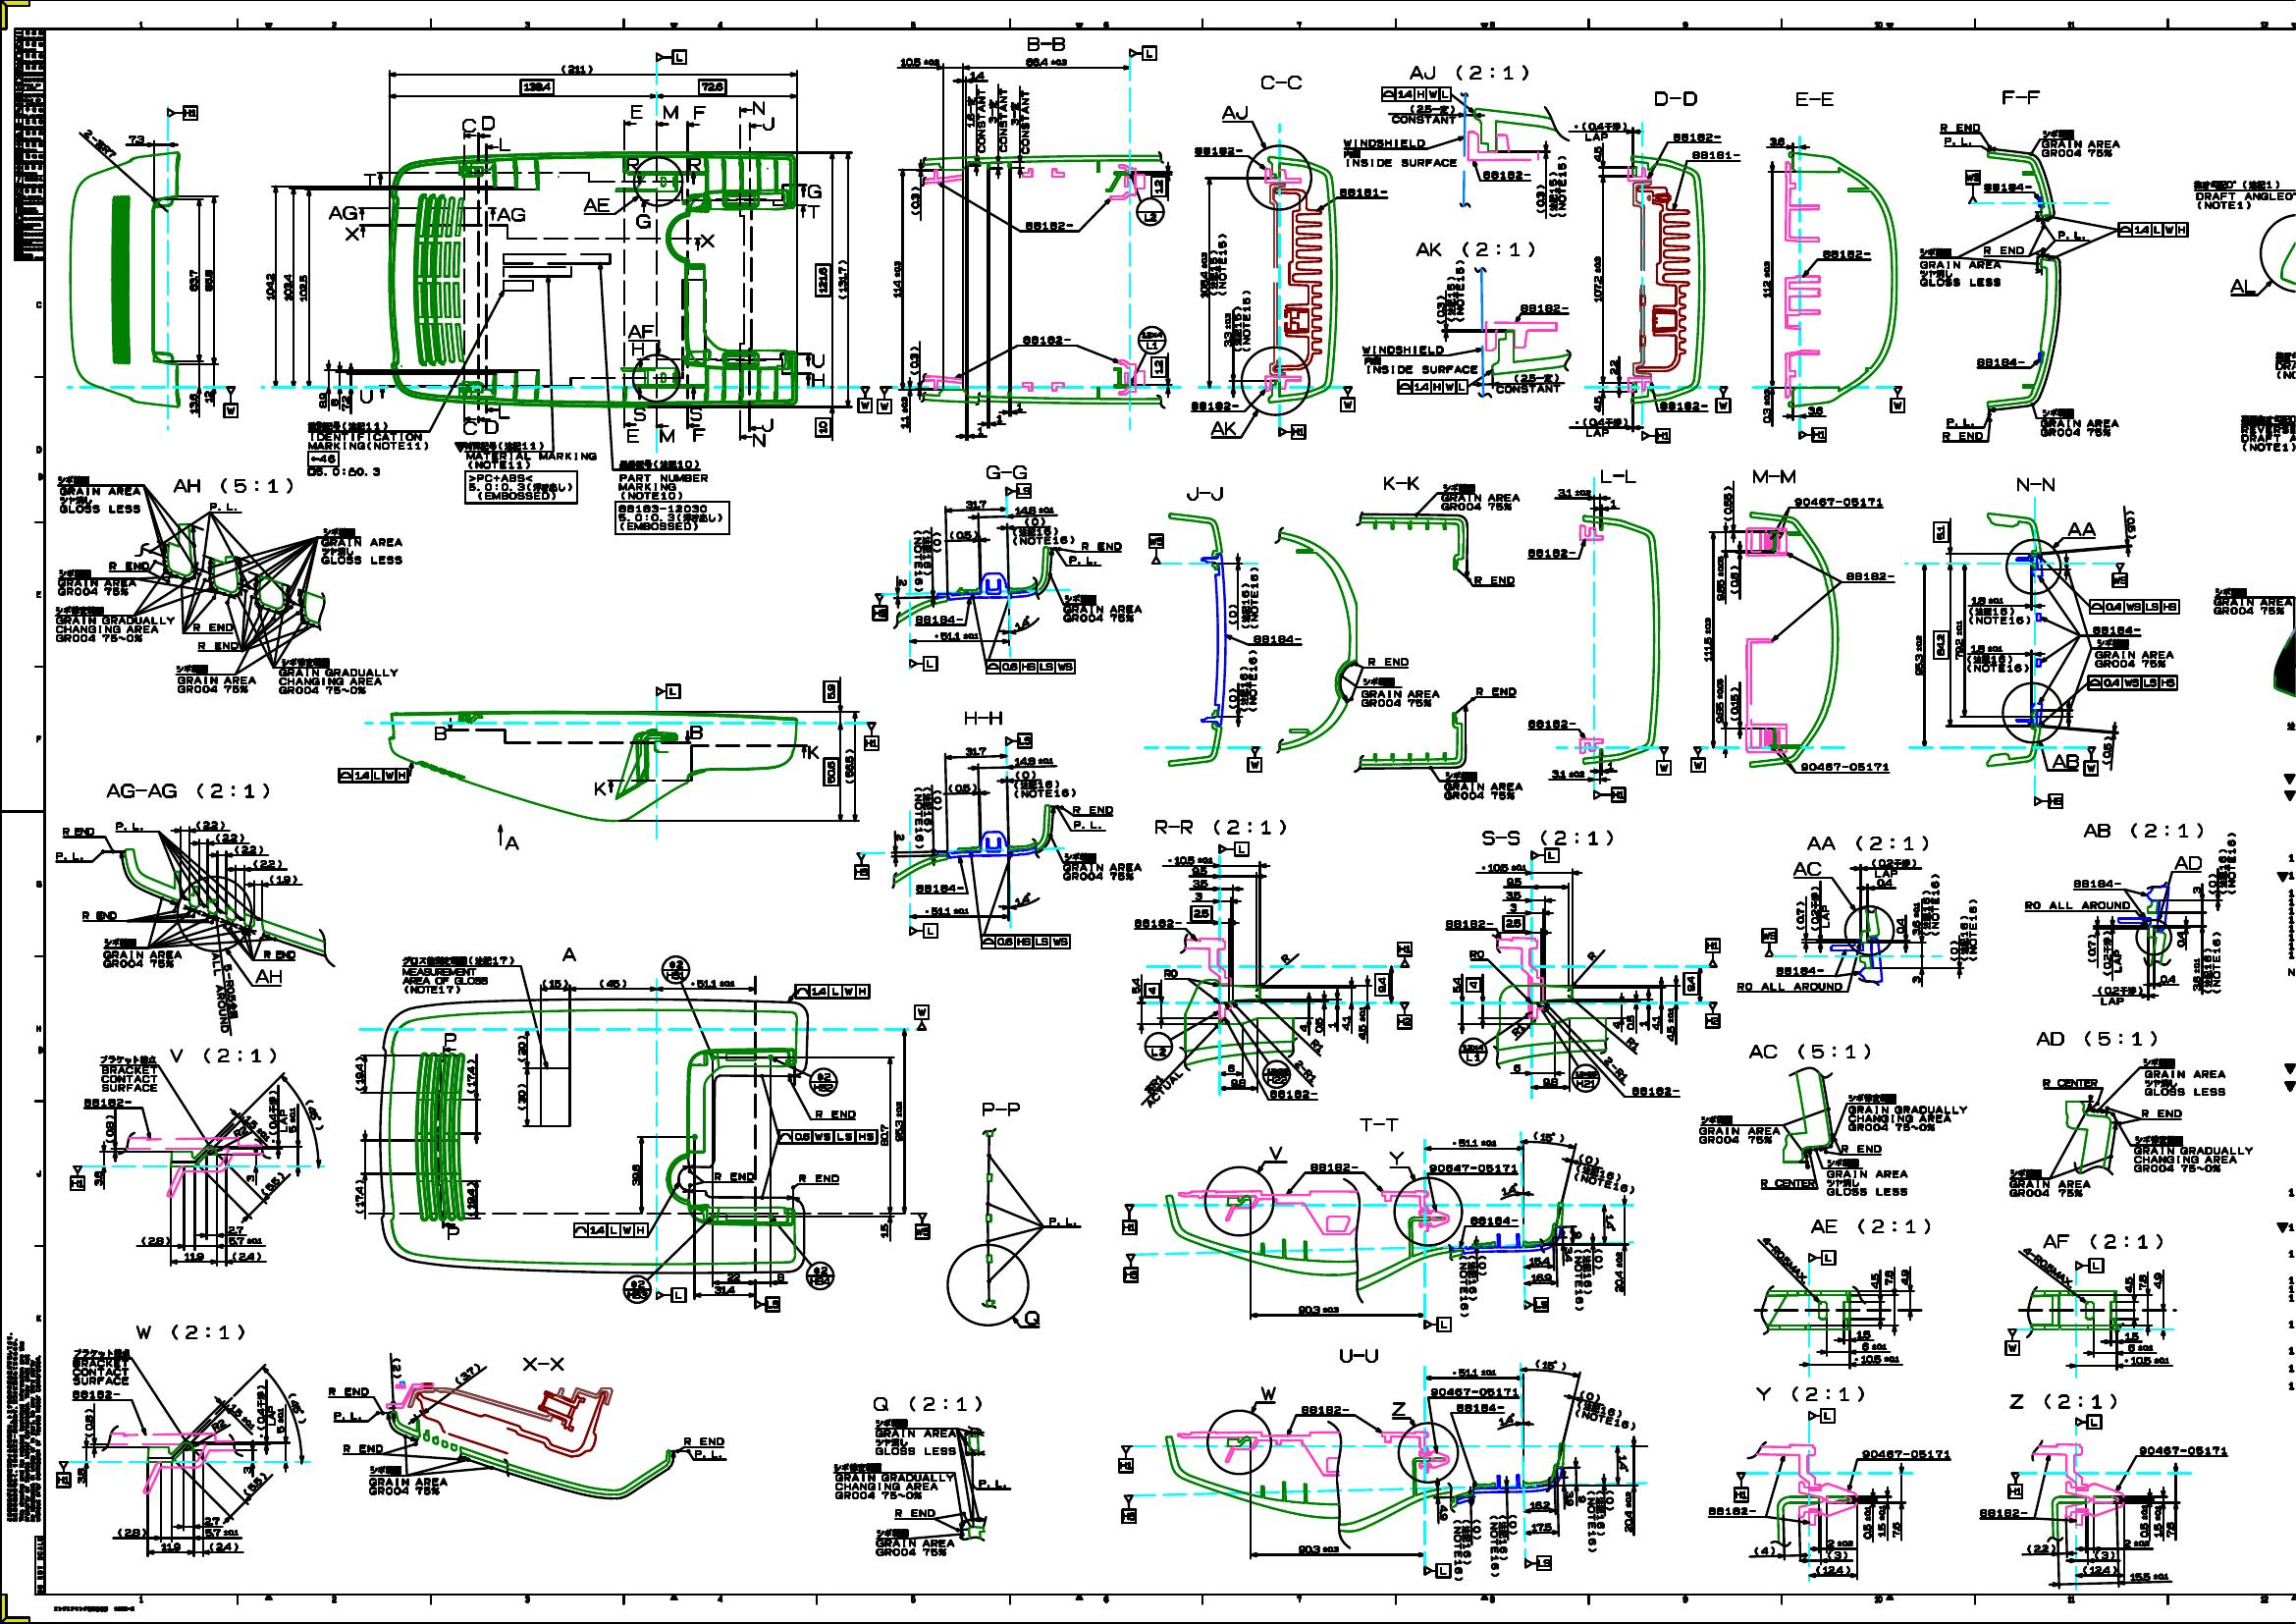anntotation_text: (453, 439, 599, 506), (615, 457, 731, 534), (307, 420, 430, 478), (4, 1332, 40, 1522), (1845, 1090, 1973, 1132), (2131, 1134, 2256, 1172), (831, 1461, 954, 1499), (278, 657, 399, 696), (54, 605, 174, 643), (402, 954, 515, 995), (56, 473, 144, 515), (2192, 176, 2296, 211), (1825, 1156, 1910, 1199), (320, 526, 408, 566), (104, 780, 271, 801), (1918, 246, 2001, 288), (1342, 137, 1458, 167), (873, 1417, 957, 1457), (2141, 1055, 2226, 1095), (1154, 816, 1291, 840), (1360, 344, 1479, 373), (2235, 411, 2296, 459), (369, 1462, 450, 1497), (1481, 826, 1613, 847), (2215, 585, 2296, 619), (1061, 849, 1142, 882), (2006, 1167, 2090, 1199), (1753, 1381, 1867, 1404), (2083, 819, 2206, 840), (104, 937, 181, 970), (1444, 770, 1525, 801), (1360, 677, 1439, 708), (1802, 833, 1931, 852), (1697, 1116, 1780, 1146), (174, 664, 256, 694), (2032, 1028, 2159, 1048), (1748, 1042, 1874, 1062), (56, 566, 137, 596), (2041, 128, 2122, 158), (1061, 592, 1142, 622), (1440, 482, 1521, 511), (2094, 638, 2175, 668), (2041, 1232, 2166, 1251), (98, 1055, 160, 1093), (2040, 408, 2119, 438), (1409, 62, 1530, 81), (873, 1394, 982, 1415), (875, 1529, 956, 1557), (132, 1323, 246, 1343), (70, 1348, 130, 1385), (1809, 1218, 1931, 1236), (169, 1046, 278, 1065), (174, 478, 292, 496), (213, 951, 237, 1033), (2008, 1392, 2119, 1410), (1414, 241, 1534, 257), (778, 1128, 878, 1144), (1959, 895, 1982, 961), (1572, 1406, 1641, 1427), (2201, 932, 2224, 995), (984, 659, 1075, 675), (2089, 599, 2180, 615), (1209, 228, 1230, 297), (1548, 155, 1570, 216), (1451, 1517, 1472, 1582), (1488, 1513, 1509, 1578), (912, 784, 933, 849), (1920, 872, 1941, 937), (2022, 898, 2133, 910), (1238, 566, 1260, 629), (1967, 605, 2031, 626), (794, 982, 870, 1000), (1576, 415, 1628, 439), (1586, 1487, 1606, 1554), (1390, 104, 1456, 123), (1574, 1171, 1641, 1190), (980, 935, 1072, 949), (1456, 1253, 1476, 1318), (1497, 373, 1562, 392), (1446, 257, 1465, 322), (1572, 1248, 1592, 1313), (1966, 654, 2031, 673), (1233, 288, 1253, 353), (337, 766, 408, 784), (2089, 675, 2177, 689), (573, 1222, 648, 1237), (1859, 1448, 1955, 1461), (2217, 831, 2236, 893), (1238, 649, 1258, 710), (1736, 981, 1845, 991), (2136, 1443, 2229, 1455), (255, 1385, 276, 1438), (1458, 1033, 1488, 1070), (1794, 496, 1883, 508), (2119, 221, 2187, 237), (1381, 86, 1449, 102), (1430, 1162, 1518, 1174), (1014, 780, 1075, 798), (1137, 1077, 1188, 1098), (913, 531, 931, 591), (2103, 928, 2124, 977), (269, 1090, 288, 1142), (1012, 529, 1075, 545), (1398, 380, 1469, 394), (1574, 121, 1625, 141), (1799, 761, 1890, 772), (1869, 858, 1918, 877), (1432, 1385, 1521, 1396), (805, 1260, 836, 1290), (1137, 323, 1166, 355), (1750, 1251, 1816, 1265), (622, 1274, 652, 1304), (661, 954, 690, 984), (1135, 197, 1165, 227), (1809, 884, 1829, 930), (2097, 986, 2143, 1005), (1750, 466, 1799, 483), (522, 1355, 566, 1374), (810, 1067, 838, 1097), (1572, 1063, 1600, 1093), (2040, 1076, 2099, 1090), (1653, 88, 1700, 105), (1142, 1032, 1173, 1058), (1260, 1060, 1291, 1086), (1444, 916, 1497, 932), (2015, 1260, 2082, 1272), (2275, 348, 2296, 387), (959, 708, 1005, 726), (1794, 90, 1838, 107), (1757, 1176, 1818, 1188), (2001, 88, 2043, 105), (53, 1605, 135, 1613), (2013, 476, 2059, 492), (1599, 466, 1639, 483), (1021, 88, 1031, 155), (998, 86, 1008, 153), (977, 88, 987, 155), (1337, 1345, 1381, 1360), (1260, 74, 1303, 90), (1978, 1504, 2027, 1519), (1358, 1116, 1400, 1132), (986, 464, 1028, 480), (1690, 149, 1743, 162), (980, 1100, 1021, 1116), (1381, 475, 1421, 490), (1026, 35, 1066, 51), (2175, 852, 2205, 874), (1708, 1504, 1758, 1517), (1671, 130, 1722, 142), (1630, 1084, 1681, 1097), (1189, 399, 1240, 411), (1021, 334, 1072, 346), (1964, 169, 1982, 204), (2066, 520, 2097, 540), (2071, 877, 2120, 889), (1527, 717, 1576, 729), (341, 1441, 383, 1455), (798, 1171, 840, 1185), (1732, 1469, 1750, 1503), (1818, 248, 1873, 258), (1518, 302, 1572, 313), (711, 1171, 757, 1183), (327, 204, 358, 221), (913, 882, 966, 893), (1251, 633, 1303, 643), (1593, 786, 1625, 803), (1022, 221, 1075, 232), (581, 195, 613, 213), (1186, 487, 1224, 501), (107, 559, 151, 571), (1982, 243, 2025, 255), (327, 1385, 371, 1397), (1365, 656, 1409, 668), (1455, 1401, 1505, 1411), (1976, 357, 2027, 367), (83, 1097, 134, 1107), (1339, 186, 1390, 197), (1193, 146, 1244, 156), (655, 49, 689, 65), (1216, 840, 1249, 856), (1121, 1204, 1138, 1234), (497, 206, 527, 223), (167, 104, 197, 121), (1792, 859, 1822, 877), (908, 656, 938, 673), (1469, 1214, 1518, 1225), (1841, 1141, 1883, 1153), (1658, 401, 1708, 411), (813, 1107, 856, 1120), (72, 1388, 121, 1399), (81, 909, 118, 923), (1776, 965, 1825, 975), (1080, 540, 1123, 552), (1472, 575, 1514, 587), (1527, 548, 1576, 559), (35, 1536, 44, 1594), (1704, 1002, 1723, 1028), (1483, 169, 1530, 179), (223, 387, 239, 418), (655, 1287, 687, 1302), (1704, 939, 1720, 970), (915, 613, 963, 624), (1147, 533, 1163, 564), (863, 722, 880, 750), (1655, 747, 1672, 775), (1209, 420, 1237, 438), (1137, 917, 1182, 928), (1270, 1088, 1316, 1098), (1123, 1253, 1138, 1283), (2227, 279, 2257, 295), (1797, 427, 1827, 443), (1641, 429, 1671, 445), (908, 923, 938, 939), (2050, 752, 2080, 768), (1307, 1162, 1360, 1171), (195, 640, 239, 650), (191, 620, 235, 631), (1939, 429, 1983, 439), (892, 1508, 936, 1519), (1845, 571, 1897, 580), (1339, 387, 1356, 413), (1298, 1404, 1349, 1413), (2090, 626, 2141, 634), (1525, 1555, 1553, 1571), (2004, 1329, 2020, 1357), (1808, 1250, 1836, 1265), (1072, 803, 1114, 814), (1005, 733, 1033, 749), (207, 499, 239, 513), (1939, 121, 1982, 132), (627, 323, 655, 339), (77, 137, 119, 148), (682, 1436, 724, 1446), (253, 968, 281, 984), (854, 852, 870, 881), (1397, 1000, 1412, 1028), (2140, 1107, 2182, 1118), (1423, 1316, 1451, 1332), (1983, 183, 2032, 192), (1476, 685, 1516, 696), (694, 1446, 724, 1461), (114, 817, 144, 831), (2034, 794, 2064, 808), (1126, 46, 1156, 60), (1121, 1496, 1137, 1522), (1425, 1562, 1451, 1578), (2075, 1413, 2101, 1429), (2076, 1257, 2103, 1272), (1715, 387, 1730, 413), (54, 1461, 70, 1487), (69, 1165, 84, 1192), (2112, 562, 2127, 589), (1279, 424, 1305, 439), (1070, 819, 1103, 831), (1943, 417, 1976, 429), (330, 1410, 364, 1422), (655, 682, 678, 700), (1117, 1445, 1131, 1473), (913, 1004, 928, 1032), (1530, 849, 1558, 863), (1762, 928, 1776, 956), (2083, 747, 2097, 775), (1221, 105, 1249, 120), (877, 387, 891, 415), (2008, 1473, 2024, 1497), (915, 1214, 931, 1239), (1047, 1214, 1079, 1227), (1245, 747, 1261, 772), (1690, 747, 1706, 772), (1022, 1308, 1042, 1327), (1890, 387, 1904, 413), (873, 594, 887, 620), (1065, 554, 1100, 564), (755, 1295, 778, 1311), (1525, 1297, 1548, 1313), (975, 1476, 1008, 1487), (262, 949, 295, 960), (1398, 942, 1412, 967), (1005, 483, 1029, 497), (857, 387, 871, 411), (1808, 1410, 1834, 1422), (1008, 100, 1021, 127), (1943, 135, 1973, 146), (54, 851, 84, 861), (1391, 1399, 1409, 1417), (632, 404, 650, 422), (480, 112, 497, 130), (61, 826, 97, 835), (497, 135, 515, 153), (687, 156, 704, 174), (662, 104, 680, 121), (806, 181, 824, 199), (806, 202, 824, 220), (808, 350, 826, 367), (761, 415, 778, 432), (692, 425, 708, 445), (625, 425, 641, 445), (462, 116, 478, 135), (2055, 230, 2089, 239), (966, 95, 975, 128), (1388, 1149, 1404, 1167), (432, 724, 448, 742), (689, 406, 704, 424), (659, 429, 675, 446), (631, 341, 646, 359), (483, 417, 499, 434), (462, 418, 478, 436), (357, 388, 374, 404), (344, 225, 360, 243), (560, 947, 578, 963), (761, 114, 776, 132), (750, 100, 768, 116), (625, 153, 641, 170), (634, 213, 650, 230), (699, 230, 715, 248), (808, 373, 826, 388), (750, 431, 766, 448), (987, 97, 996, 127), (1260, 1385, 1275, 1401), (805, 743, 820, 759), (441, 1032, 457, 1048), (444, 1225, 460, 1241), (362, 172, 378, 188), (692, 105, 708, 121), (631, 104, 646, 120), (592, 780, 606, 798), (1268, 1144, 1282, 1160), (689, 724, 703, 740), (504, 835, 520, 849)
dimension_text: (1451, 1137, 1498, 1149), (1702, 615, 1715, 663), (1481, 861, 1527, 874), (836, 258, 848, 302), (520, 79, 553, 95), (1853, 1353, 1901, 1364), (1592, 255, 1602, 302), (815, 264, 831, 295), (1166, 854, 1214, 865), (891, 258, 903, 299), (822, 758, 840, 786), (1932, 631, 1950, 659), (933, 631, 978, 642), (2124, 1355, 2170, 1366), (1198, 251, 1209, 297), (690, 977, 736, 988), (697, 79, 727, 95), (1614, 1250, 1625, 1294), (1296, 1304, 1340, 1315), (1623, 1490, 1634, 1534), (1221, 311, 1233, 348), (1014, 756, 1056, 766), (892, 1100, 903, 1142), (1722, 485, 1734, 520), (1599, 1062, 1634, 1074), (307, 1097, 320, 1132), (899, 56, 940, 67), (1715, 677, 1723, 724), (1876, 1504, 1888, 1538), (1860, 1504, 1873, 1538), (1551, 768, 1585, 780), (292, 1392, 304, 1425), (1762, 260, 1773, 299), (1716, 555, 1725, 601), (924, 907, 970, 916), (1189, 907, 1212, 924), (1374, 972, 1391, 995), (1451, 1367, 1497, 1376), (2101, 735, 2113, 766), (1356, 1004, 1367, 1040), (1500, 914, 1525, 930), (1794, 900, 1806, 932), (1534, 1359, 1565, 1371), (223, 1411, 260, 1422), (1296, 1545, 1340, 1554), (2082, 1564, 2117, 1575), (1815, 1564, 1850, 1575), (1014, 506, 1056, 515), (1556, 487, 1592, 497), (845, 749, 856, 784), (2192, 958, 2203, 993), (815, 417, 833, 438), (899, 395, 910, 431), (1024, 56, 1066, 65), (204, 1527, 239, 1538), (466, 1058, 476, 1093), (908, 185, 921, 214), (1534, 183, 1546, 213), (451, 1367, 481, 1380), (81, 1408, 93, 1438), (597, 977, 627, 990), (195, 819, 225, 831), (1151, 174, 1166, 197), (1151, 355, 1166, 378), (1683, 972, 1699, 995), (2129, 1571, 2170, 1580), (1915, 634, 1924, 675), (2138, 1504, 2148, 1538), (1969, 642, 2003, 652), (560, 63, 594, 74), (908, 344, 919, 378), (353, 1179, 364, 1213), (515, 1083, 527, 1111), (515, 1035, 527, 1063), (269, 874, 297, 886), (1955, 620, 1964, 659), (1932, 522, 1950, 541), (2025, 1543, 2057, 1554), (1532, 1132, 1563, 1142), (2126, 508, 2136, 540), (1971, 594, 2003, 605), (824, 680, 840, 701), (1289, 1065, 1321, 1076), (207, 1541, 239, 1552), (139, 1236, 170, 1246), (214, 831, 246, 842), (232, 844, 264, 854), (251, 858, 283, 868), (1730, 685, 1739, 722), (116, 1527, 146, 1538), (264, 272, 274, 302), (283, 272, 293, 302), (297, 272, 307, 302), (1435, 295, 1446, 325), (2087, 933, 2097, 963), (230, 1251, 260, 1262), (256, 1179, 286, 1190), (1762, 388, 1771, 424), (1665, 1007, 1674, 1042), (227, 1236, 262, 1244), (239, 1125, 274, 1134), (355, 1056, 364, 1091), (949, 782, 977, 793), (104, 1114, 114, 1142), (241, 1478, 269, 1489), (541, 977, 569, 988), (2154, 1504, 2162, 1538), (1913, 902, 1922, 935), (466, 1181, 474, 1214), (186, 392, 199, 415), (390, 1357, 402, 1380), (1730, 564, 1739, 596), (1860, 1341, 1887, 1352), (1825, 1538, 1855, 1547), (1578, 1153, 1599, 1165), (1476, 1253, 1486, 1278), (1226, 603, 1238, 624), (162, 1540, 183, 1552), (1145, 982, 1161, 998), (2127, 1343, 2155, 1352), (1465, 977, 1483, 991), (288, 1106, 297, 1134), (964, 499, 987, 510), (1014, 770, 1036, 780), (188, 267, 199, 290), (204, 269, 214, 292), (1472, 1519, 1483, 1541), (631, 1164, 641, 1186), (1604, 1213, 1616, 1232), (1500, 1183, 1520, 1195), (1014, 615, 1033, 627), (2124, 1538, 2150, 1547), (2208, 872, 2217, 898), (2094, 1550, 2115, 1561), (949, 531, 980, 538), (1528, 1499, 1549, 1510), (1527, 1257, 1551, 1265), (1022, 517, 1047, 526), (1228, 685, 1237, 710), (1767, 135, 1785, 148), (963, 747, 987, 756), (1618, 1454, 1630, 1471), (1498, 1413, 1516, 1425), (1755, 1545, 1774, 1555), (2154, 1271, 2164, 1290), (1869, 1271, 1880, 1290), (1191, 879, 1210, 889), (1874, 877, 1894, 888), (1895, 916, 1906, 935), (207, 1420, 227, 1431), (1825, 1550, 1848, 1559), (933, 531, 942, 554), (1950, 939, 1959, 961), (1606, 1489, 1614, 1512), (1530, 1522, 1553, 1531), (1509, 1513, 1518, 1536), (713, 1285, 736, 1294), (880, 1123, 889, 1146), (1593, 1248, 1602, 1269), (1563, 1244, 1574, 1262), (933, 789, 942, 810), (1014, 895, 1031, 905), (2159, 974, 2177, 984), (2136, 1272, 2147, 1290), (1309, 1040, 1326, 1051), (1312, 1016, 1323, 1033), (1340, 1014, 1351, 1032), (1505, 875, 1523, 886), (1467, 949, 1484, 960), (1509, 1025, 1527, 1035), (1623, 1039, 1641, 1049), (1650, 1014, 1660, 1032), (1439, 1503, 1449, 1520), (1579, 1392, 1600, 1401), (276, 1406, 283, 1432), (202, 1515, 220, 1526), (183, 1251, 204, 1260), (1530, 1274, 1555, 1281), (1592, 144, 1600, 163), (2177, 930, 2185, 949), (1189, 866, 1209, 875), (1131, 975, 1140, 995), (1855, 1329, 1871, 1339), (128, 134, 144, 144), (1505, 889, 1521, 900), (1542, 1076, 1558, 1086), (2166, 1520, 2175, 1538), (1892, 1520, 1901, 1538), (1806, 406, 1823, 415), (1592, 395, 1600, 413), (1883, 1269, 1892, 1287), (318, 390, 327, 408), (1451, 975, 1460, 993), (1625, 1014, 1634, 1032), (1565, 1489, 1574, 1506), (76, 1468, 84, 1485), (93, 1169, 102, 1186), (230, 1128, 248, 1137), (202, 388, 213, 402), (878, 1223, 889, 1237), (1609, 359, 1618, 374), (2124, 1276, 2133, 1292), (2124, 1332, 2140, 1341), (1901, 1269, 1910, 1285), (341, 395, 350, 411), (1163, 968, 1179, 977), (1230, 1077, 1245, 1086), (227, 1225, 242, 1234), (1279, 953, 1291, 963), (727, 1272, 740, 1283), (970, 70, 984, 79), (2191, 884, 2201, 895), (1014, 402, 1024, 413), (1193, 891, 1203, 902), (1326, 1019, 1337, 1030), (1911, 974, 1922, 984), (241, 1464, 251, 1475), (1586, 951, 1599, 960), (330, 397, 339, 408), (993, 415, 1003, 424), (975, 425, 984, 436), (1226, 1063, 1235, 1074), (1298, 1023, 1309, 1032), (1513, 1062, 1521, 1072), (1578, 1494, 1586, 1504), (896, 833, 905, 842), (1509, 902, 1518, 910), (1613, 1019, 1621, 1028), (246, 1174, 255, 1183), (776, 1272, 785, 1281), (1609, 499, 1616, 510), (1572, 1232, 1581, 1239), (1606, 763, 1614, 770), (1639, 1019, 1648, 1026)
object: (374, 1000, 806, 1276), (388, 151, 799, 408), (921, 149, 1165, 406), (1275, 511, 1469, 772), (386, 708, 799, 823), (1165, 1186, 1565, 1295), (1163, 1429, 1567, 1534), (388, 1381, 678, 1501), (1783, 148, 1899, 411), (69, 149, 179, 408), (1465, 105, 1569, 374), (1743, 508, 1841, 768), (118, 847, 327, 958), (1579, 513, 1662, 766), (1625, 155, 1708, 406), (1985, 144, 2061, 411), (1261, 153, 1337, 406), (163, 522, 325, 631), (1165, 510, 1228, 766), (1495, 935, 1607, 1065), (1180, 937, 1293, 1067), (1985, 510, 2041, 768), (892, 803, 1056, 886), (892, 547, 1052, 626), (1751, 1441, 1859, 1545), (2032, 1443, 2126, 1541), (104, 1431, 239, 1497), (123, 1134, 264, 1197), (1783, 1069, 1834, 1165), (2117, 884, 2170, 965), (1830, 907, 1883, 984), (2031, 1290, 2119, 1332), (1764, 1290, 1852, 1330), (2064, 1100, 2113, 1172), (982, 1127, 998, 1308), (963, 1429, 987, 1543)
title_block: (12, 26, 46, 262)
